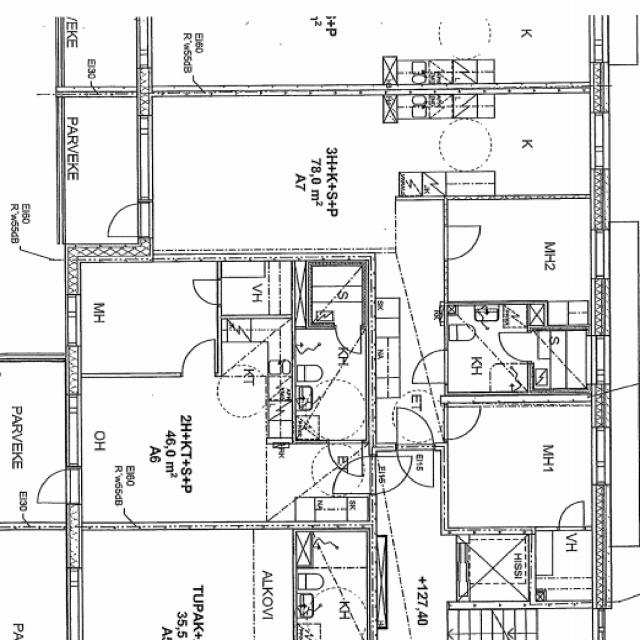door: (85, 264, 227, 359), (398, 404, 480, 444), (104, 199, 143, 240), (394, 405, 433, 446), (179, 334, 218, 374), (444, 401, 482, 441), (396, 449, 434, 488), (444, 223, 482, 260), (35, 467, 71, 505), (412, 349, 448, 384), (554, 496, 588, 530), (334, 446, 366, 482), (190, 276, 222, 306)
window: (132, 119, 156, 204), (588, 107, 612, 176), (63, 396, 84, 470), (498, 80, 578, 98), (589, 225, 610, 283), (0, 350, 63, 365)
zone: (393, 92, 595, 196), (445, 404, 598, 530), (445, 194, 596, 317), (74, 258, 218, 378), (62, 93, 142, 247), (0, 361, 70, 525), (294, 326, 368, 441), (0, 526, 73, 640), (295, 528, 369, 640), (445, 306, 539, 394), (61, 16, 140, 94), (531, 529, 596, 604), (463, 532, 530, 604), (217, 317, 290, 382), (218, 259, 291, 317), (537, 328, 592, 394), (308, 263, 366, 325), (391, 90, 448, 122), (334, 443, 366, 482)
